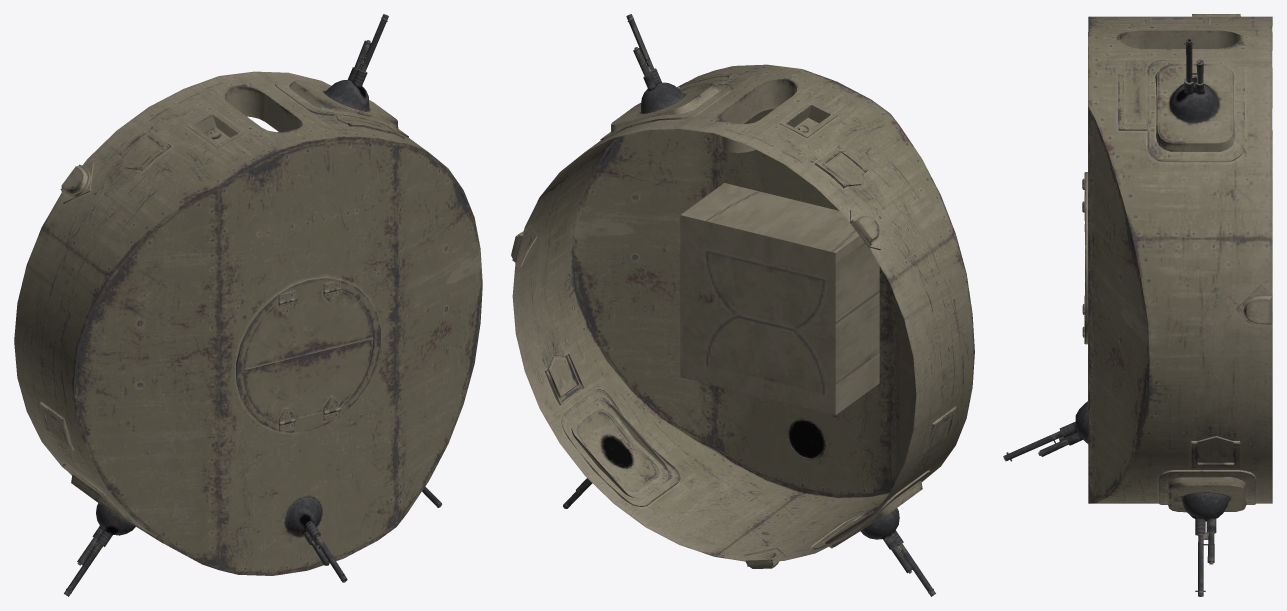
The model's file is Turret_01.glb.
The picture shows the model from 3 angles, left to right: view 1: azimuth 30°, elevation 25°; view 2: azimuth 150°, elevation 25°; view 3: azimuth 270°, elevation 25°; orthographic projection. The views are drawn at different scales.
Visible parts, largest first — view 1: set_0_group_0; view 2: set_0_group_0; view 3: set_0_group_0.
Boxes of the visible parts, x1,y1,x2,y2 form: set_0_group_0: (14,14,482,596); set_0_group_0: (511,14,974,596); set_0_group_0: (1003,14,1272,596).
Size of the model in its own units: 1.9 by 2.25 by 1.04.
Materials: 1 (1 with a texture image).
